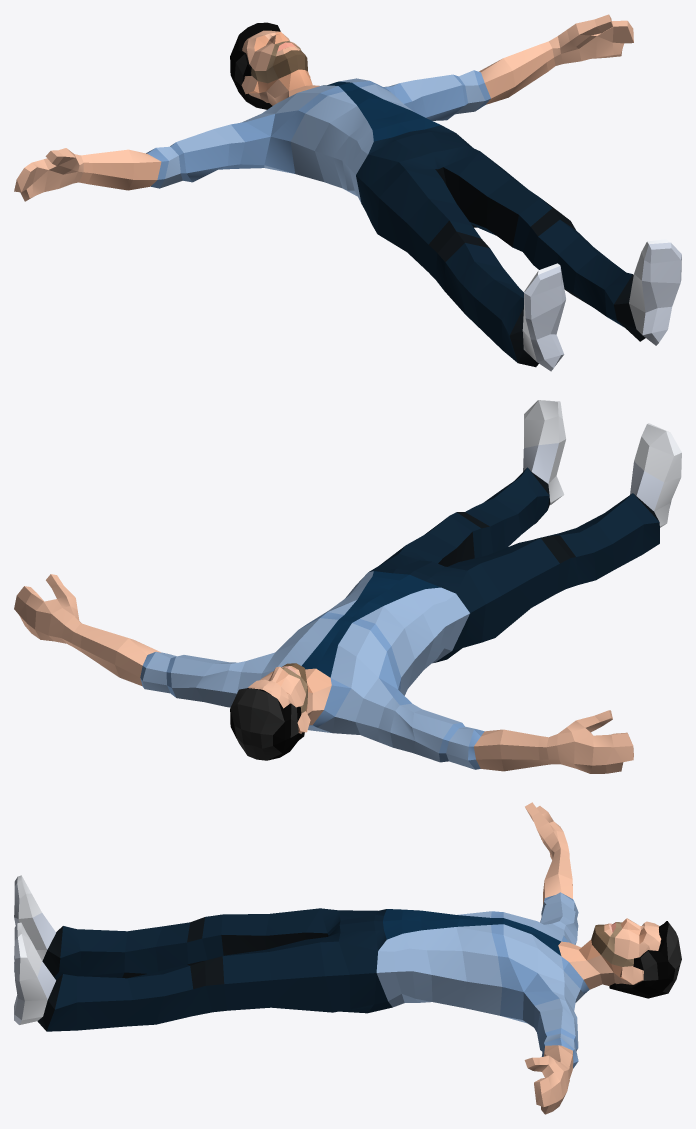
Rendered from male_mesh.glb.
The picture shows the model from 3 angles, top to bottom: view 1: azimuth 30°, elevation 25°; view 2: azimuth 150°, elevation 25°; view 3: azimuth 270°, elevation 25°; orthographic projection. The views are drawn at different scales.
Visible parts, largest first — view 1: Object_7; view 2: Object_7; view 3: Object_7.
Part boxes in pixels (box(x1,y1,x2,y2)): Object_7: box(14, 14, 681, 371); Object_7: box(14, 400, 681, 773); Object_7: box(14, 802, 681, 1114).
Size of the model in its own units: 1.83 by 0.3264 by 1.82.
1 material, 1 textured.
